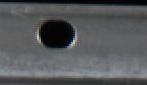holes: (35, 18, 78, 49)
